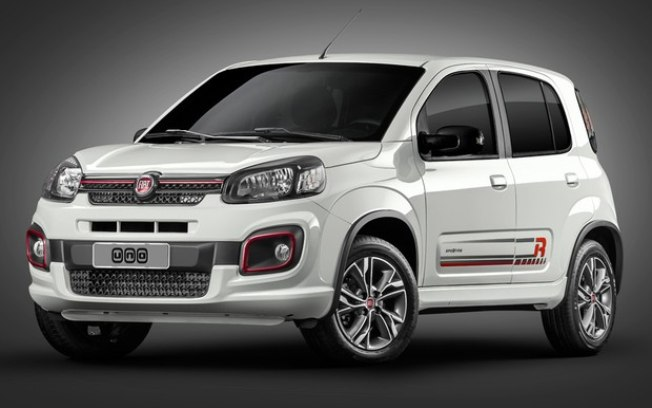Carro: (26, 45, 628, 360)
